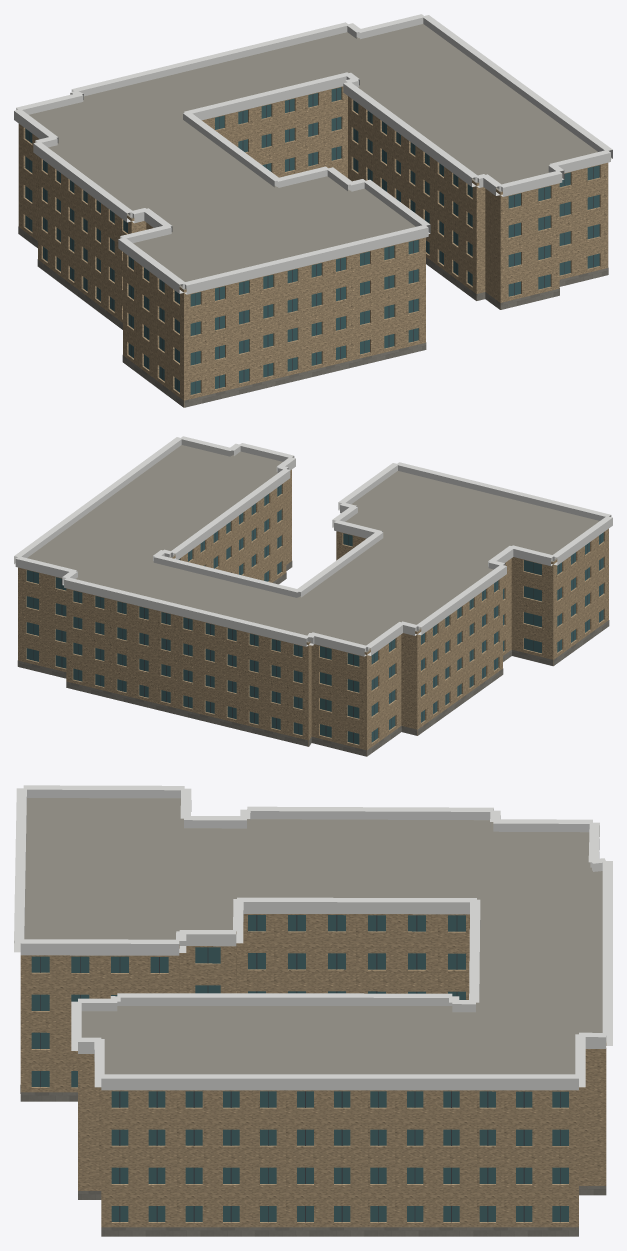
3 renders of one model, top to bottom at view 1: azimuth 30°, elevation 25°; view 2: azimuth 150°, elevation 25°; view 3: azimuth 270°, elevation 25°, orthographic. The views are drawn at different scales.
Parts seen in each view (by area): view 1: nanpa__wall, nanpa__roof, nanpa__trim, nanpa__glass, nanpa__base, nanpa__frame; view 2: nanpa__wall, nanpa__roof, nanpa__trim, nanpa__glass, nanpa__base, nanpa__frame; view 3: nanpa__roof, nanpa__wall, nanpa__trim, nanpa__glass, nanpa__base, nanpa__frame.
Boxes of the visible parts, bbox=[...] form: nanpa__wall: bbox=[18, 86, 608, 407]; nanpa__roof: bbox=[29, 24, 597, 289]; nanpa__trim: bbox=[14, 14, 612, 294]; nanpa__glass: bbox=[25, 87, 599, 394]; nanpa__base: bbox=[18, 226, 608, 407]; nanpa__frame: bbox=[29, 88, 593, 393]; nanpa__wall: bbox=[18, 469, 608, 756]; nanpa__roof: bbox=[27, 445, 599, 652]; nanpa__trim: bbox=[14, 436, 612, 656]; nanpa__glass: bbox=[26, 485, 603, 744]; nanpa__base: bbox=[17, 561, 609, 756]; nanpa__frame: bbox=[33, 487, 600, 743]; nanpa__roof: bbox=[24, 798, 606, 1074]; nanpa__wall: bbox=[20, 914, 606, 1227]; nanpa__trim: bbox=[14, 785, 612, 1090]; nanpa__glass: bbox=[31, 915, 568, 1221]; nanpa__base: bbox=[20, 1085, 606, 1236]; nanpa__frame: bbox=[40, 915, 560, 1222].
Bounding box in the file's own units: 60.99 × 15.62 × 52.67.
Materials: 6 (2 with a texture image).
